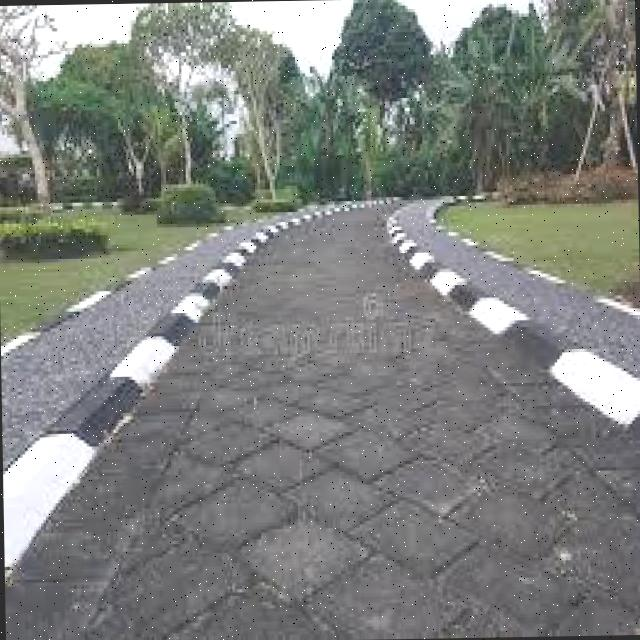curb: (492, 303, 640, 451), (3, 401, 113, 576), (148, 266, 219, 394), (87, 343, 162, 450), (393, 249, 497, 321), (212, 216, 290, 288), (292, 193, 386, 230)
